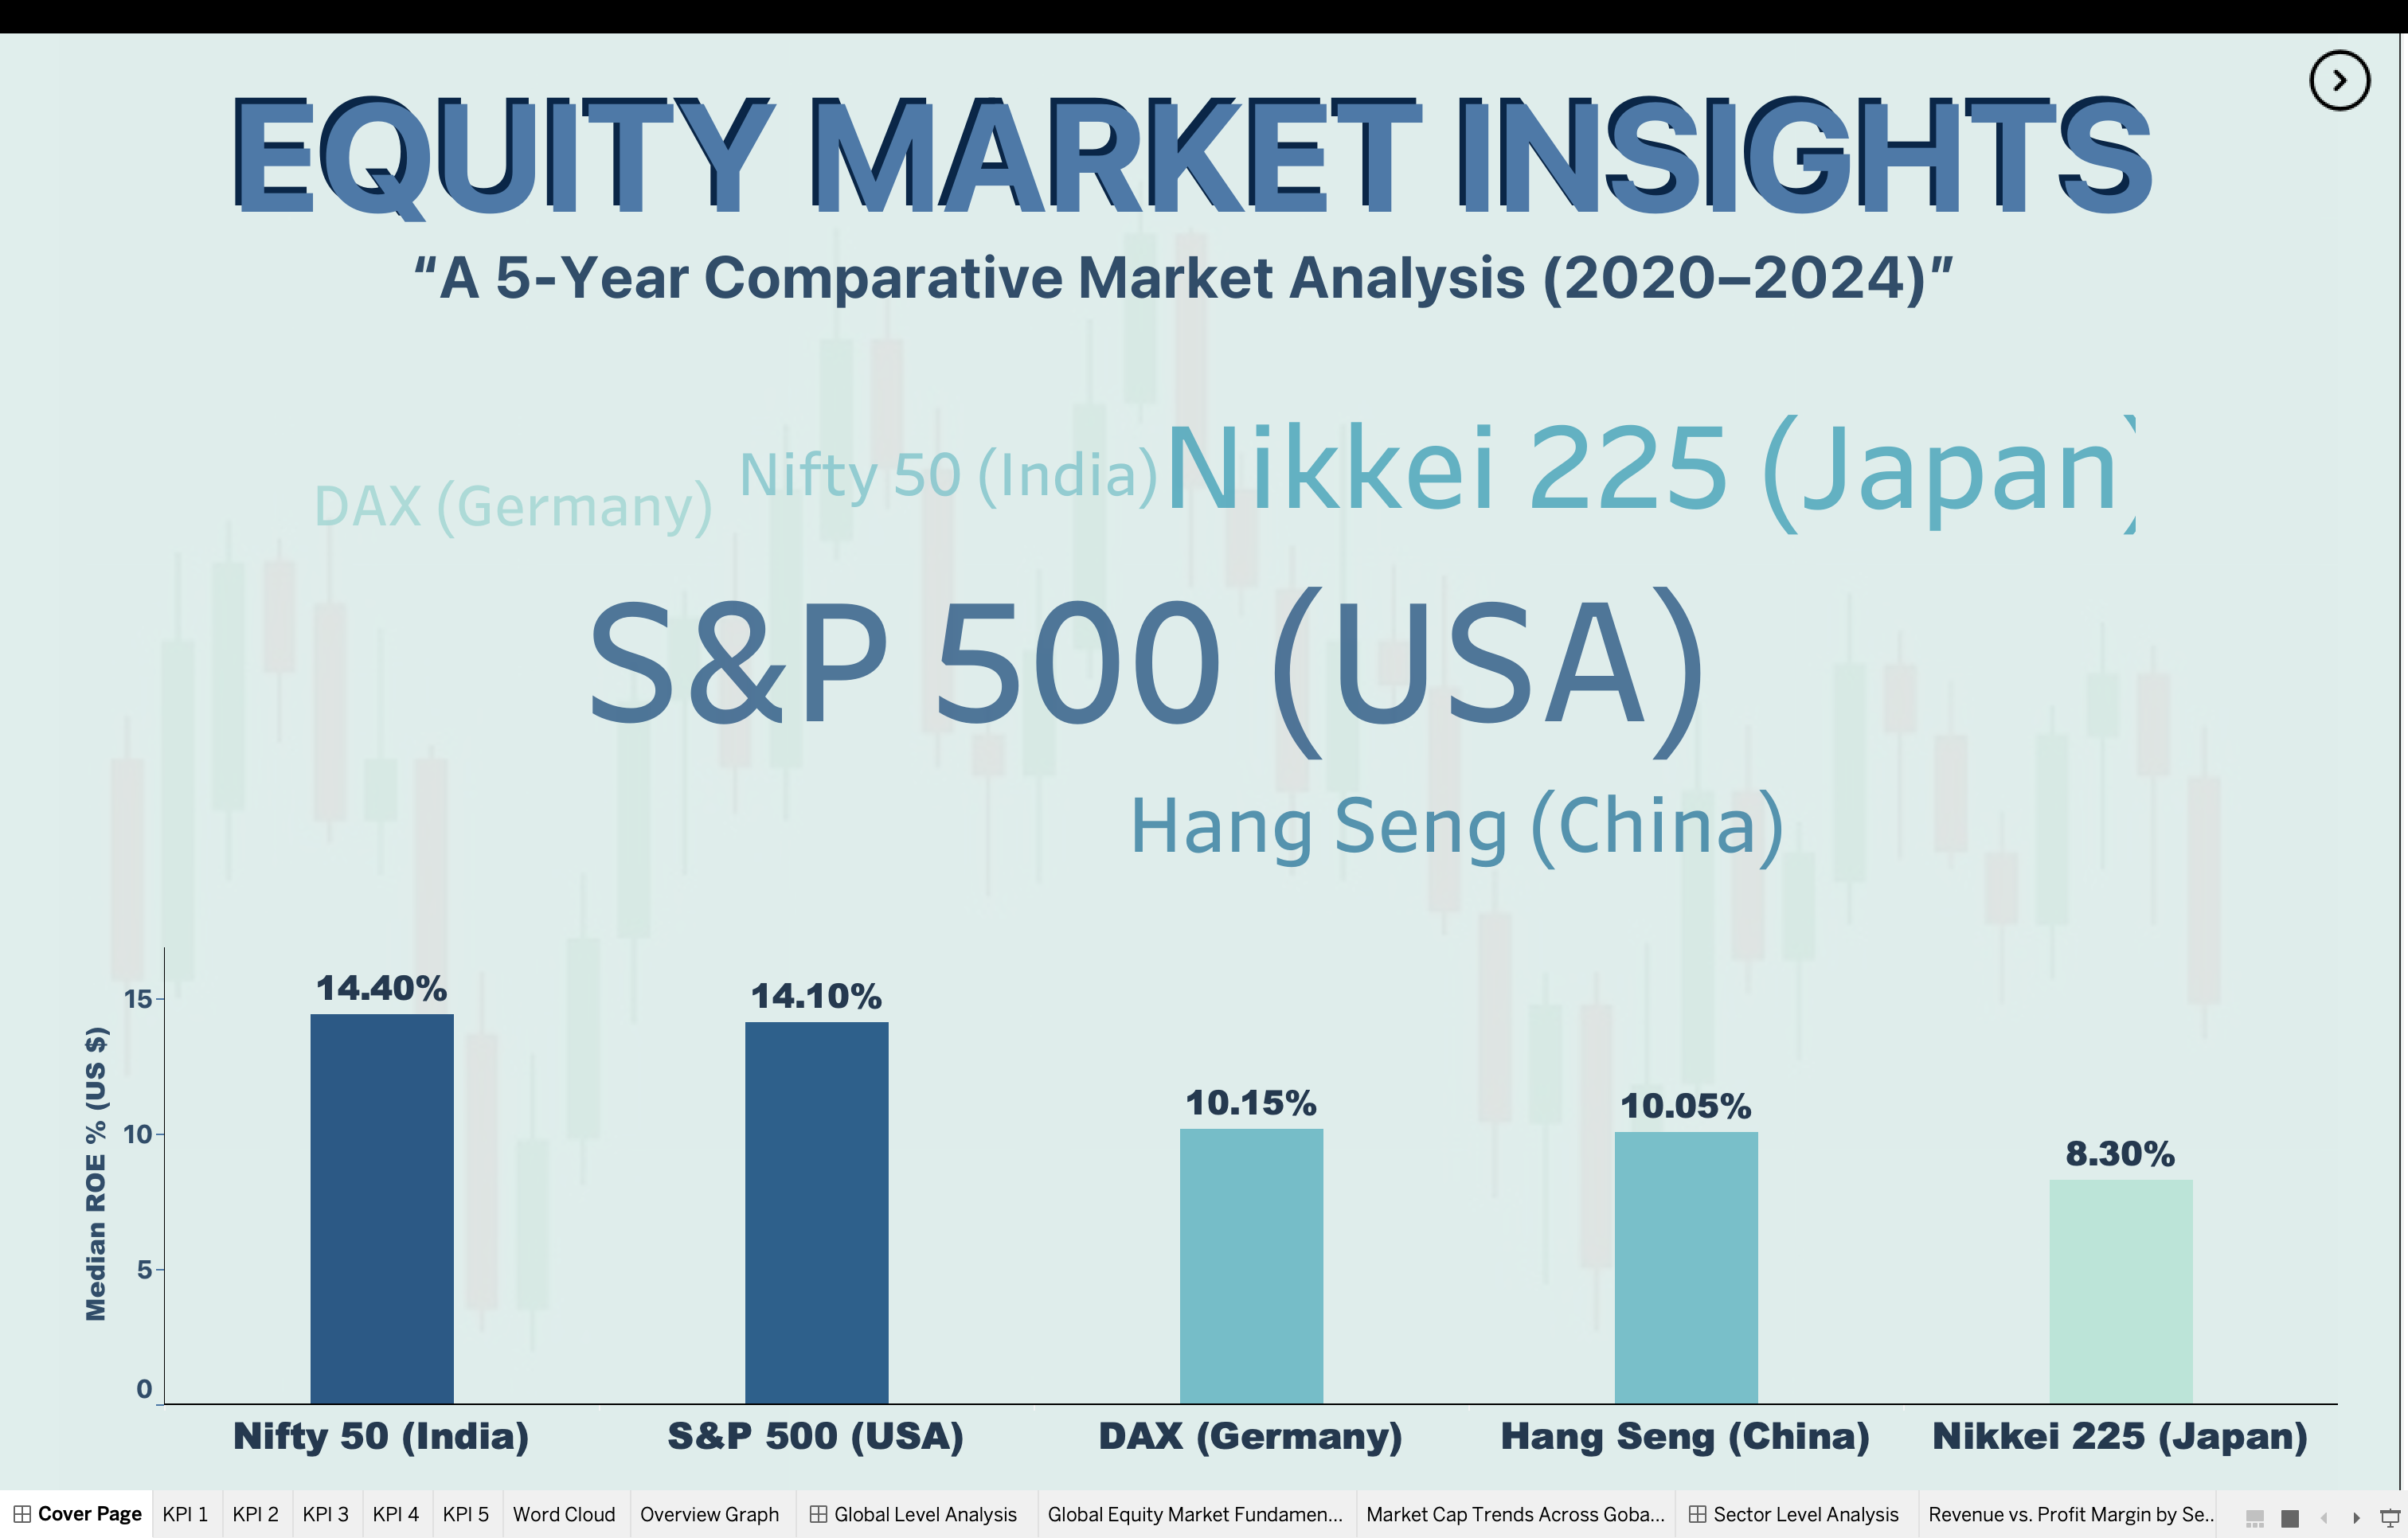

Layout of this report page (visuals, bound fields, positions):
{"tool":"tableau","page":{"name":"Cover Page","canvas":[1000,1000],"units":"permille","ordinal":1},"visuals":[{"type":"worksheet","title":"title reflection","mark":"Automatic","box":[7.7,4.5,976.6,158.4]},{"type":"dashboard-object","box":[955.4,9.1,32.9,46.8]},{"type":"worksheet","title":"subtitle","mark":"Automatic","box":[51.8,137.2,881.5,58.8]},{"type":"worksheet","title":"Word Cloud","mark":"Text","box":[117.1,251.9,769.7,351.4]},{"type":"worksheet","title":"Overview Graph","mark":"Bar","rows":["Return on Equity %"],"cols":["Index"],"box":[26.8,610.9,944.1,373.3]}]}

Visuals, with their boxes on the dashboard's canvas, which has no fixed pixel size, in thousandths of its width and height (x1, y1, x2, y2). These are canvas units, not pixel positions in the 2408x1538 screenshot, which may show the page scaled, cropped or inside an application window:
"title reflection" worksheet: 8:4:984:163
dashboard-object: 955:9:988:56
"subtitle" worksheet: 52:137:933:196
"Word Cloud" worksheet (Text marks): 117:252:887:603
"Overview Graph" worksheet (Bar marks): 27:611:971:984
